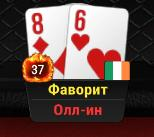6h: (67, 4, 125, 79)
8d: (24, 8, 67, 78)
